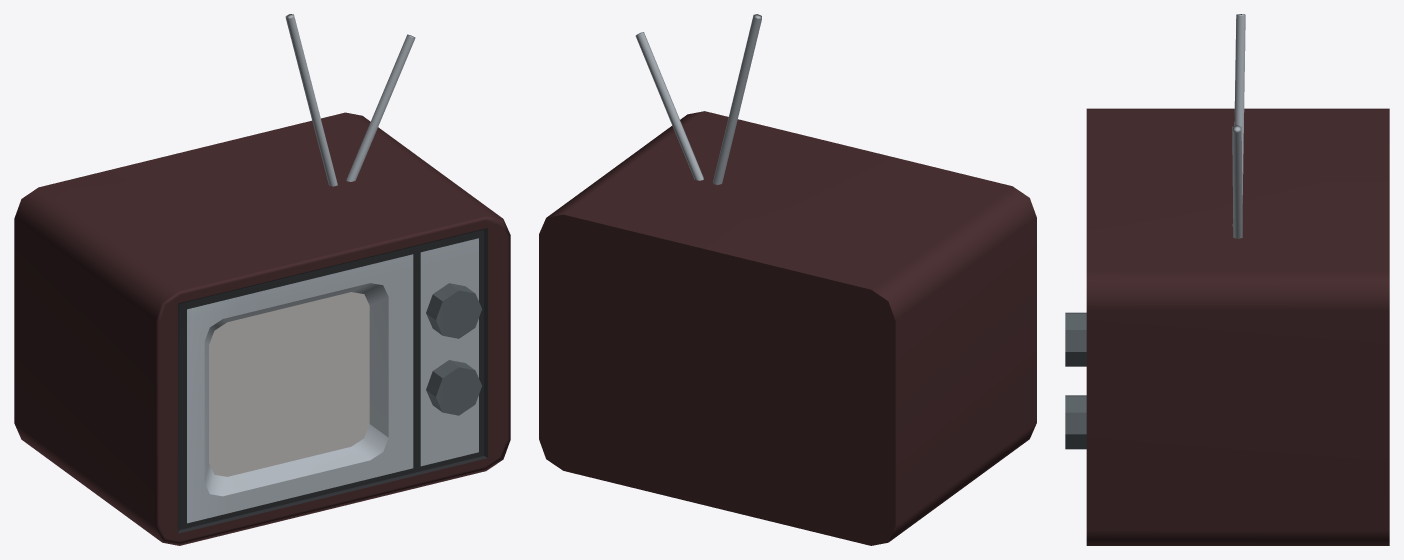
3 views of the same model, side by side, from view 1: azimuth 30°, elevation 25°; view 2: azimuth 150°, elevation 25°; view 3: azimuth 270°, elevation 25° (orthographic). The views are drawn at different scales.
Parts seen in each view (by area): view 1: TV; view 2: TV; view 3: TV.
Part boxes in pixels (x1=…): TV: x1=14, y1=14, x2=510, y2=545; TV: x1=539, y1=14, x2=1036, y2=545; TV: x1=1065, y1=14, x2=1389, y2=545.
Size of the model in its own units: 1.37 by 1.59 by 1.01.
